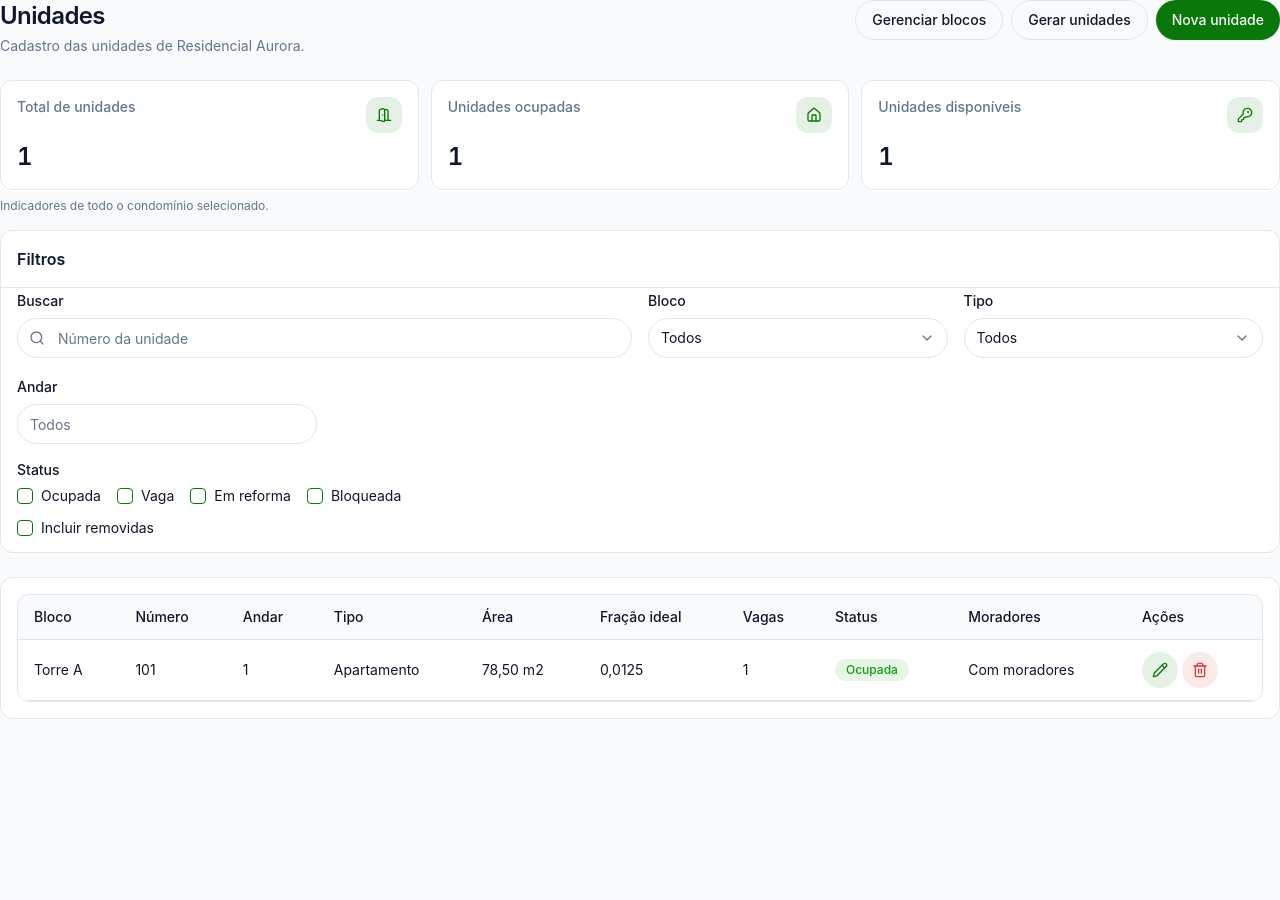
Scenario: Cadastro de unidade › IT-054: o seletor oferece apenas os blocos do condomínio selecionado
Expected: the text "101" is shown, [135, 660, 156, 680]
Click the button "Nova unidade": x=1218, y=20 [1156, 0, 1279, 40]
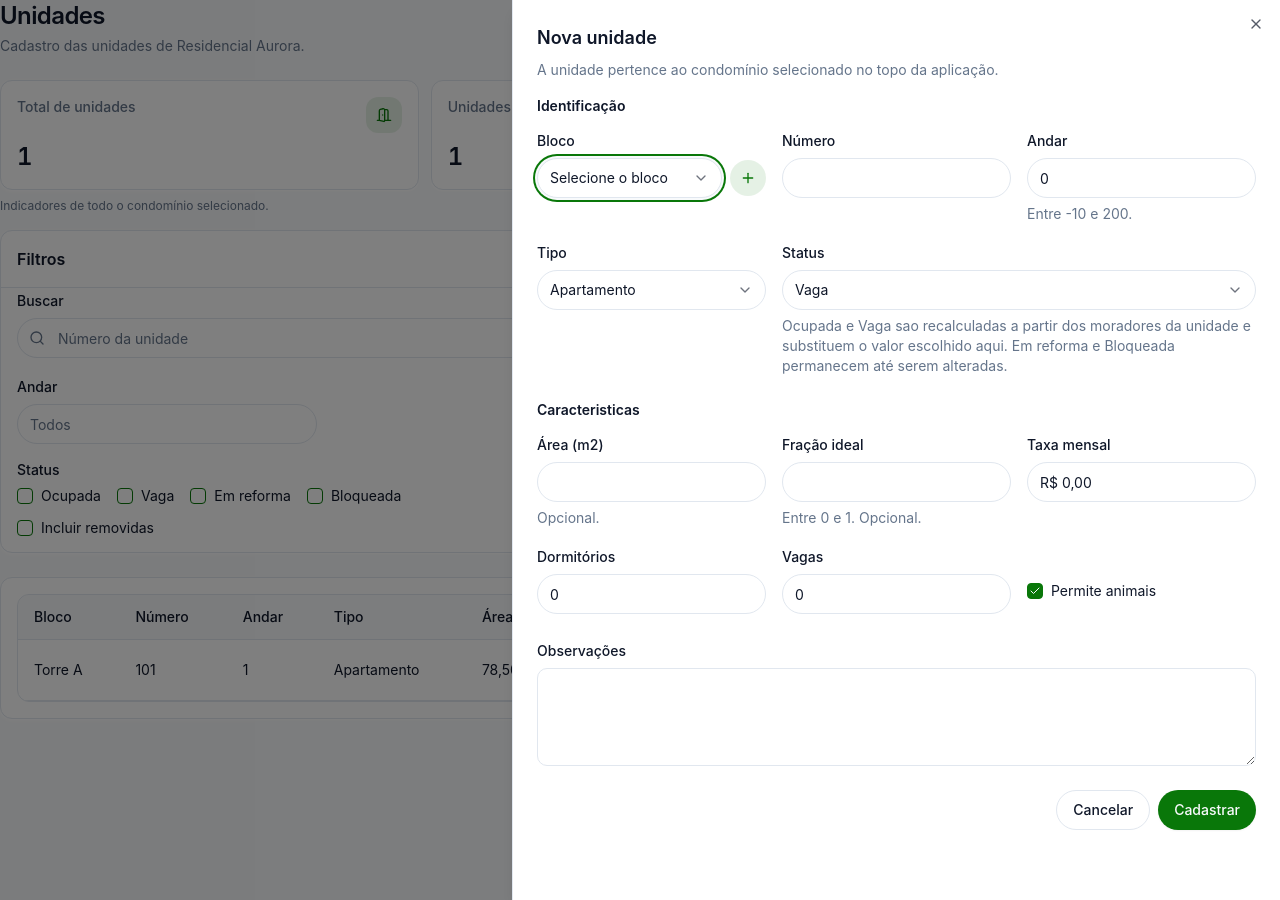
Expected: the field labelled "Número" is shown, [782, 158, 1011, 198]
Press Enter in the dropdown labelled "Selecione o bloco", box [537, 158, 722, 198]
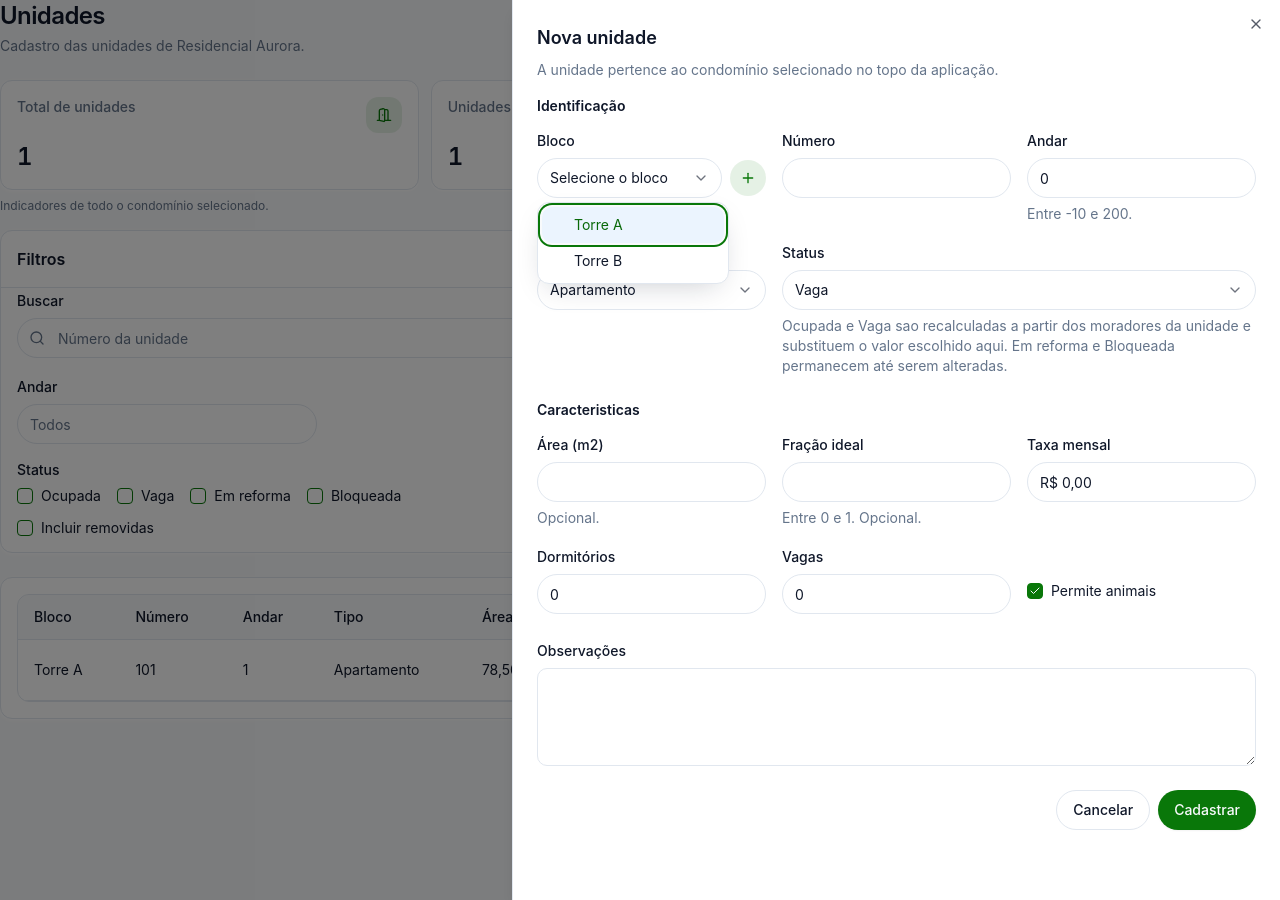
Expected: the options read "Torre A", "Torre B", in this order, [542, 207, 724, 243]; [574, 252, 622, 269]
